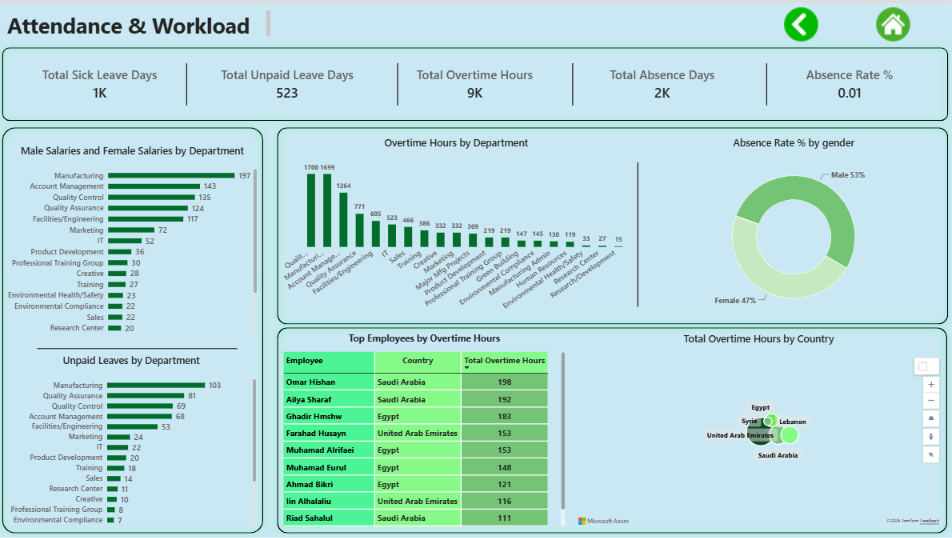

What the dashboard file says about the page in this screenshot:
{"tool":"powerbi","page":{"name":"Attendance & Workload","canvas":[1920,1080],"ordinal":3},"visuals":[{"type":"group","id":"g1","title":"Group 1","box":[0,16,1920,1060],"z":0},{"type":"textbox","box":[24,16,526,54],"z":0,"group":"g1"},{"type":"cardVisual","fields":{"Data":["_measures.Total Sick Leave Days","_measures.Total Unpaid Leave Days","_measures.Total Overtime Hours","_measures.Total Absence Days","_measures.Absence Rate %"]},"box":[24,98,1873.3,130],"z":1000},{"type":"tableEx","title":"Top Employees by Overtime Hours","fields":{"Values":["dim_employee.employee_name","dim_location.department_country","_measures.Total Overtime Hours"]},"box":[576,658,564,390],"z":1001},{"type":"shape","box":[0,76,1920,175],"z":2000,"group":"g1"},{"type":"shape","box":[0,236,550,840],"z":10000,"group":"g1"},{"type":"barChart","title":"Male Salaries and Female Salaries by Department","fields":{"Category":["dim_department.department"],"Y":["_measures.Total Sick Leave Days"]},"box":[24,282,500,384],"z":11000,"group":"g1"},{"type":"shape","box":[84.9,681,399.9,20.8],"z":12000,"group":"g1"},{"type":"barChart","title":"Unpaid Leaves by Department","fields":{"Category":["dim_department.department"],"Y":["_measures.Total Unpaid Leave Days"]},"box":[22.6,701.8,499.9,347.1],"z":13000,"group":"g1"},{"type":"shape","box":[550,236,1370,422],"z":14000,"group":"g1"},{"type":"clusteredColumnChart","title":"Overtime Hours by Department","fields":{"Category":["dim_department.department"],"Y":["_measures.Total Overtime Hours"]},"box":[576,266,692,364],"z":15000,"group":"g1"},{"type":"shape","box":[1273.3,320,22.6,288.6],"z":16000,"group":"g1"},{"type":"donutChart","fields":{"Category":["dim_employee.gender"],"Y":["_measures.Absence Rate %"]},"box":[1296,266,602,364],"z":17000},{"type":"azureMap","fields":{"Category":["dim_location.department_country"],"Size":["_measures.Total Overtime Hours"]},"box":[1156,658,742,390],"z":17000},{"type":"image","box":[1578,10,68,68],"z":17001},{"type":"image","box":[1762,10,68,68],"z":17002},{"type":"shape","box":[368,122,30,84],"z":17003},{"type":"shape","box":[790,122,30,84],"z":17004},{"type":"shape","box":[1140,122,30,84],"z":17005},{"type":"shape","box":[1528,122,30,84],"z":17006},{"type":"shape","box":[550,636,1368,440],"z":18000,"group":"g1"}]}

Visuals, with their boxes in screenshot pixels (x1, y1, x2, y2), scaled from the page's 1920x1080 canvas onto the 952x538 screenshot:
"Group 1" group: box(0, 8, 951, 536)
textbox: box(12, 8, 273, 35)
cardVisual - _measures.Total Sick Leave Days x _measures.Total Unpaid Leave Days: box(12, 49, 941, 114)
"Top Employees by Overtime Hours" tableEx: box(286, 328, 565, 522)
shape: box(0, 38, 951, 125)
shape: box(0, 118, 273, 536)
"Male Salaries and Female Salaries by Department" barChart: box(12, 140, 260, 332)
shape: box(42, 339, 240, 350)
"Unpaid Leaves by Department" barChart: box(11, 350, 259, 523)
shape: box(273, 118, 951, 328)
"Overtime Hours by Department" clusteredColumnChart: box(286, 133, 629, 314)
shape: box(631, 159, 643, 303)
donutChart - dim_employee.gender x _measures.Absence Rate %: box(643, 133, 941, 314)
azureMap - dim_location.department_country x _measures.Total Overtime Hours: box(573, 328, 941, 522)
image: box(782, 5, 816, 39)
image: box(874, 5, 907, 39)
shape: box(182, 61, 197, 103)
shape: box(392, 61, 407, 103)
shape: box(565, 61, 580, 103)
shape: box(758, 61, 773, 103)
shape: box(273, 317, 951, 536)
